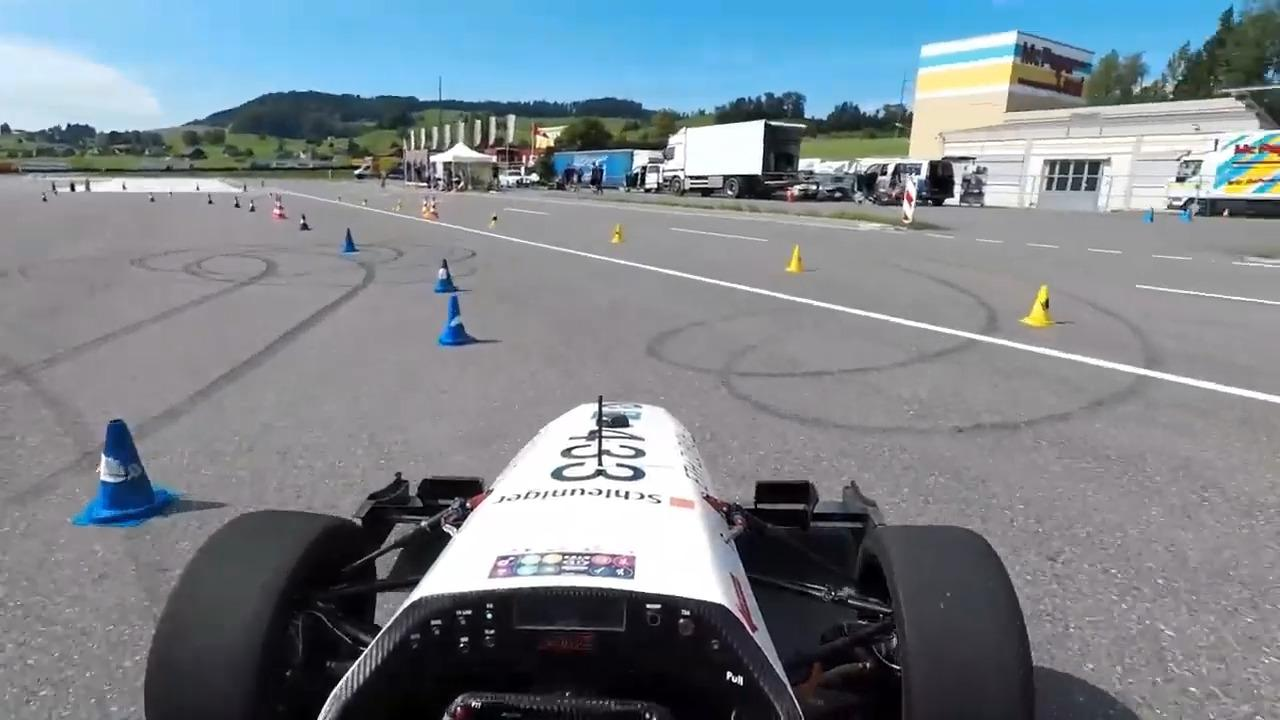blue_cone: (69, 406, 178, 527), (433, 292, 474, 348), (432, 255, 462, 295), (339, 225, 361, 255), (1139, 203, 1156, 229), (295, 211, 310, 231), (1181, 205, 1193, 226), (232, 195, 240, 209), (249, 197, 255, 213)
large_orange_cone: (429, 195, 439, 218), (276, 195, 286, 218), (421, 194, 430, 217), (273, 194, 280, 218)
yellow_cone: (1022, 280, 1053, 331), (786, 244, 809, 274), (610, 223, 625, 244), (489, 213, 501, 229)
